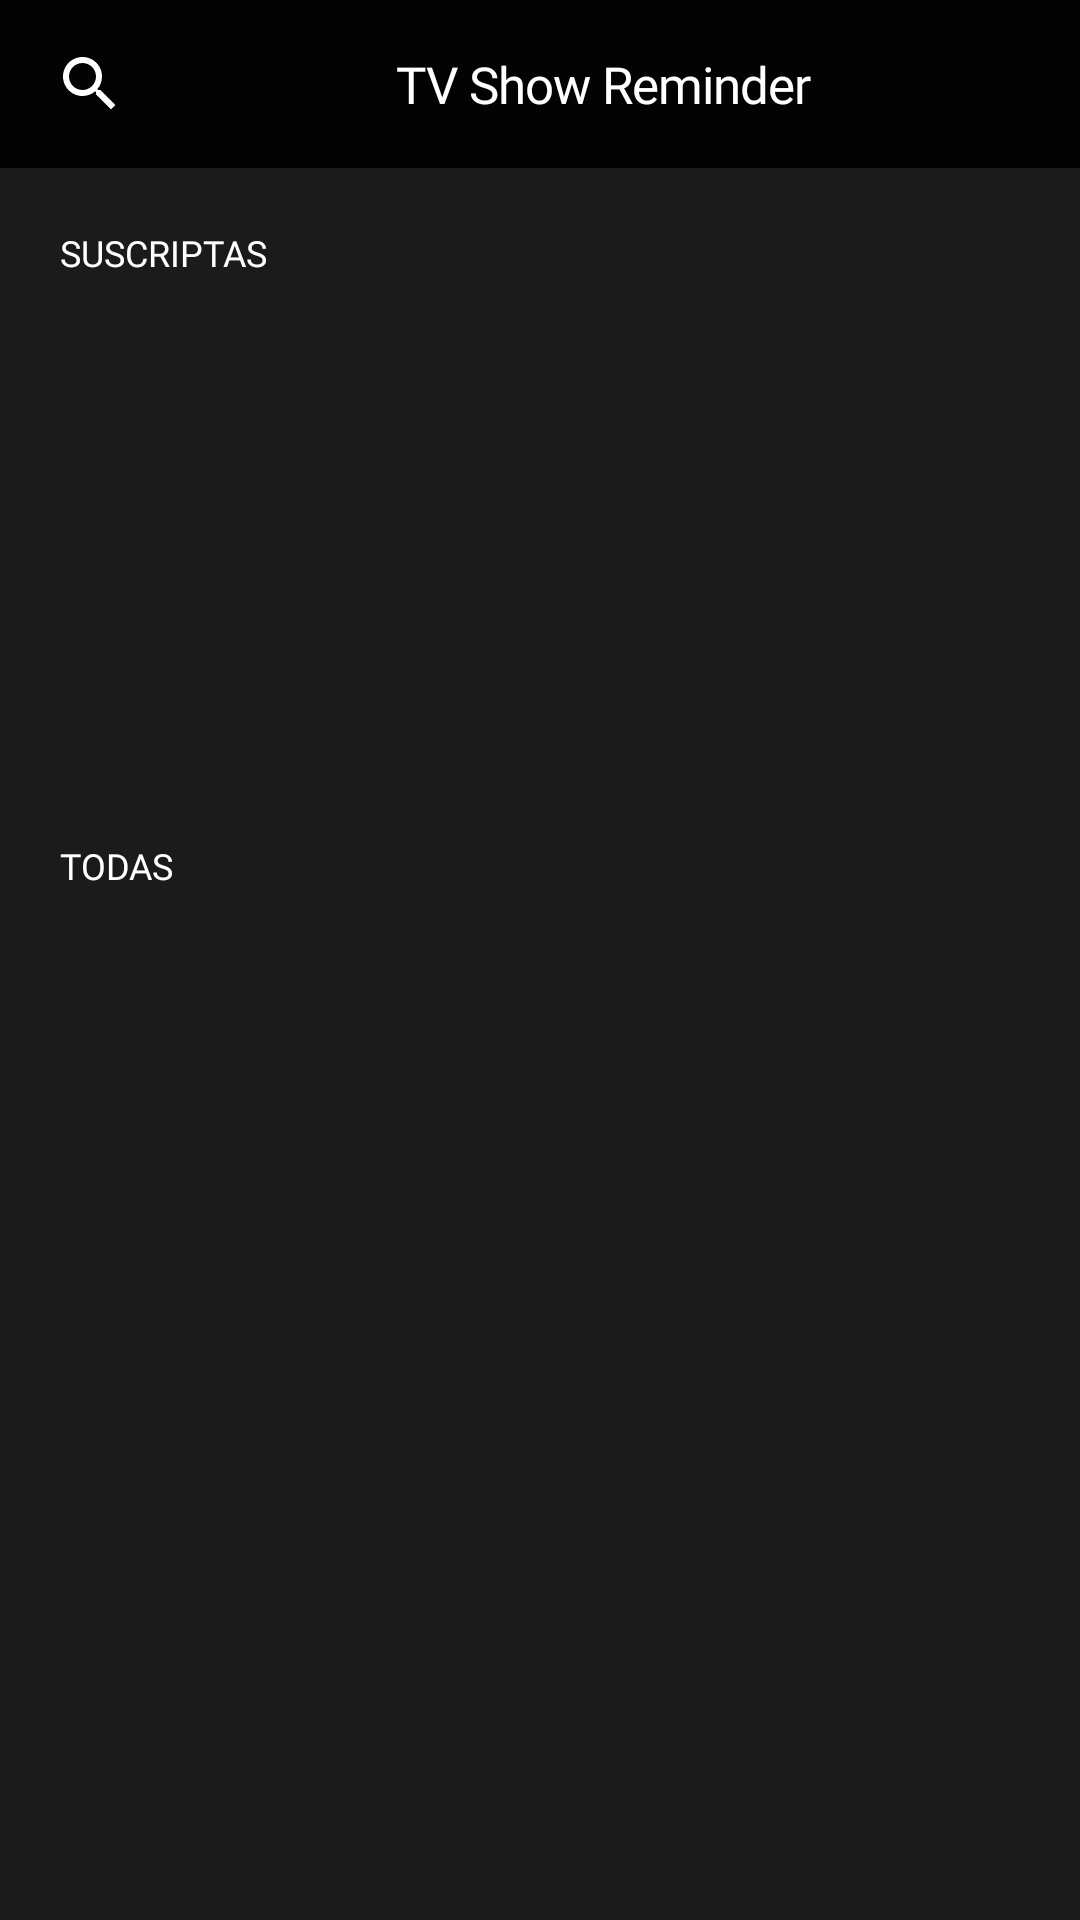

Named icons in this screenshot (1080px×1920px) and their bounding boxes, (x1, y1, x2, y2):
search: (63, 57, 115, 109)
